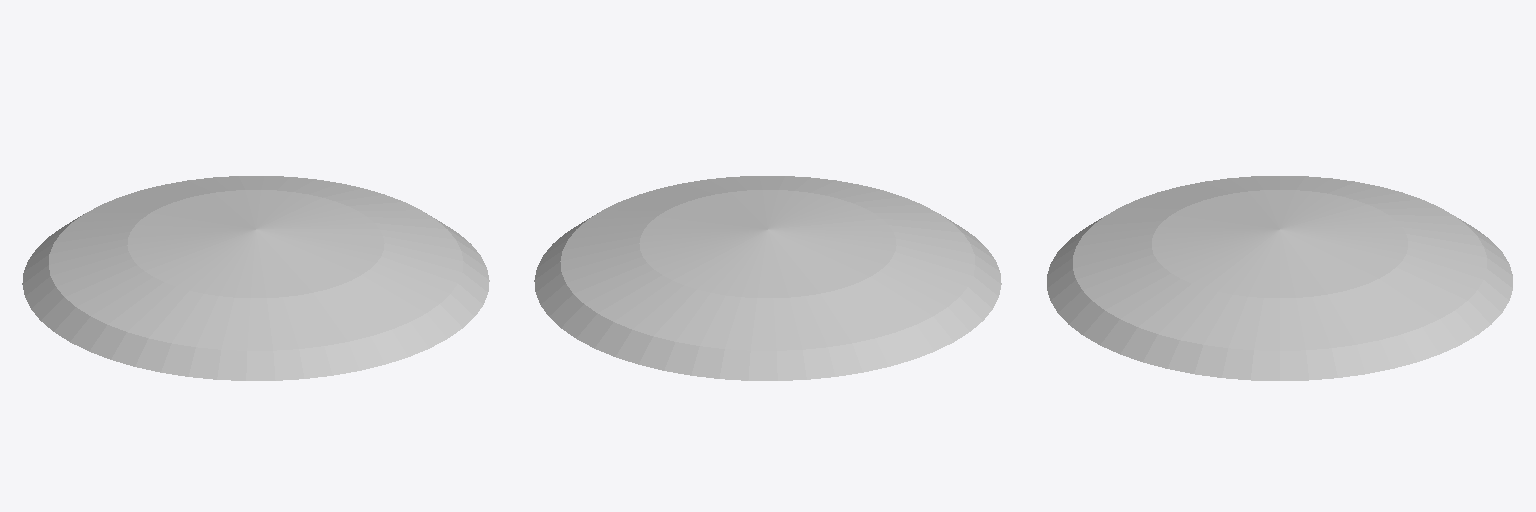
File: Mond.obj
The picture shows the model from 3 angles: view 1: azimuth 30°, elevation 25°; view 2: azimuth 150°, elevation 25°; view 3: azimuth 270°, elevation 25°; orthographic projection.
Parts seen in each view (by area): view 1: pCylinder1; view 2: pCylinder1; view 3: pCylinder1.
Part boxes in pixels (x1,y1,x2,y2): pCylinder1: (22, 176, 489, 380); pCylinder1: (534, 176, 1001, 380); pCylinder1: (1047, 176, 1512, 380).
Size of the model in its own units: 2.25 by 0.2819 by 2.25.